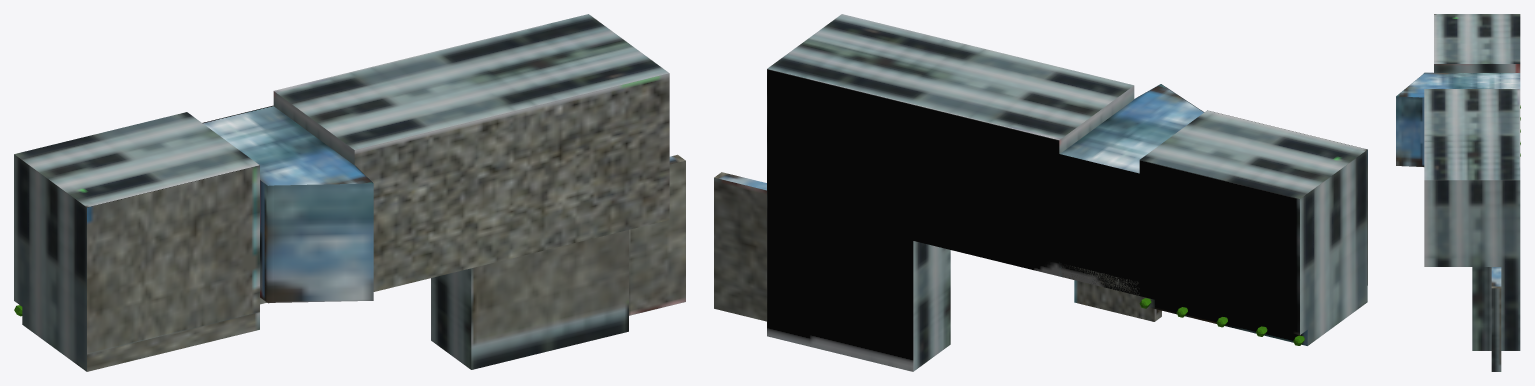
File: hospital.obj
3 renders of one model, left to right at view 1: azimuth 30°, elevation 25°; view 2: azimuth 150°, elevation 25°; view 3: azimuth 270°, elevation 25°, orthographic. The views are drawn at different scales.
Visible parts, largest first — view 1: pCube1 group1; view 2: pCube1 group1; view 3: pCube1 group1.
Boxes of the visible parts, x1,y1,x2,y2 form: pCube1 group1: [14, 14, 685, 371]; pCube1 group1: [714, 14, 1367, 371]; pCube1 group1: [1396, 14, 1520, 371].
Size of the model in its own units: 139 by 58.9 by 39.05.
3 materials, 1 textured.
